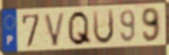7: (20, 13, 41, 49)
9: (140, 6, 162, 44), (119, 9, 137, 44)
Q: (66, 10, 93, 47)
U: (91, 8, 115, 46)
V: (43, 11, 67, 48)
